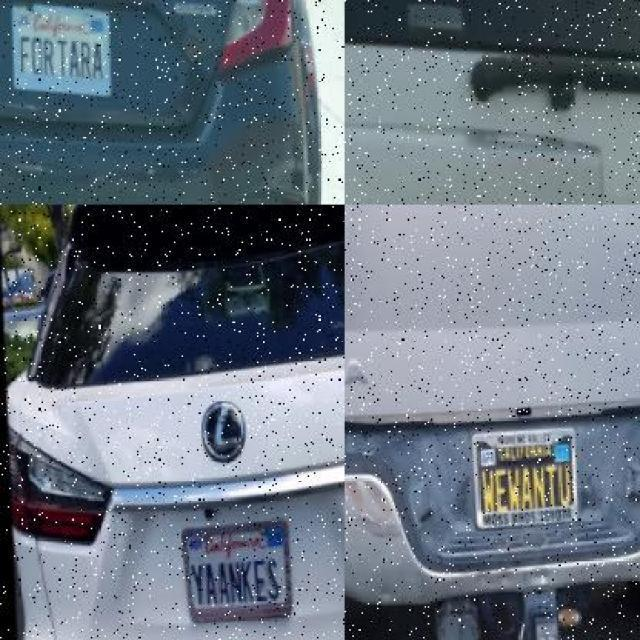LicensePlate: (473, 407, 590, 536), (178, 508, 300, 622), (11, 0, 119, 97), (323, 0, 344, 15)
